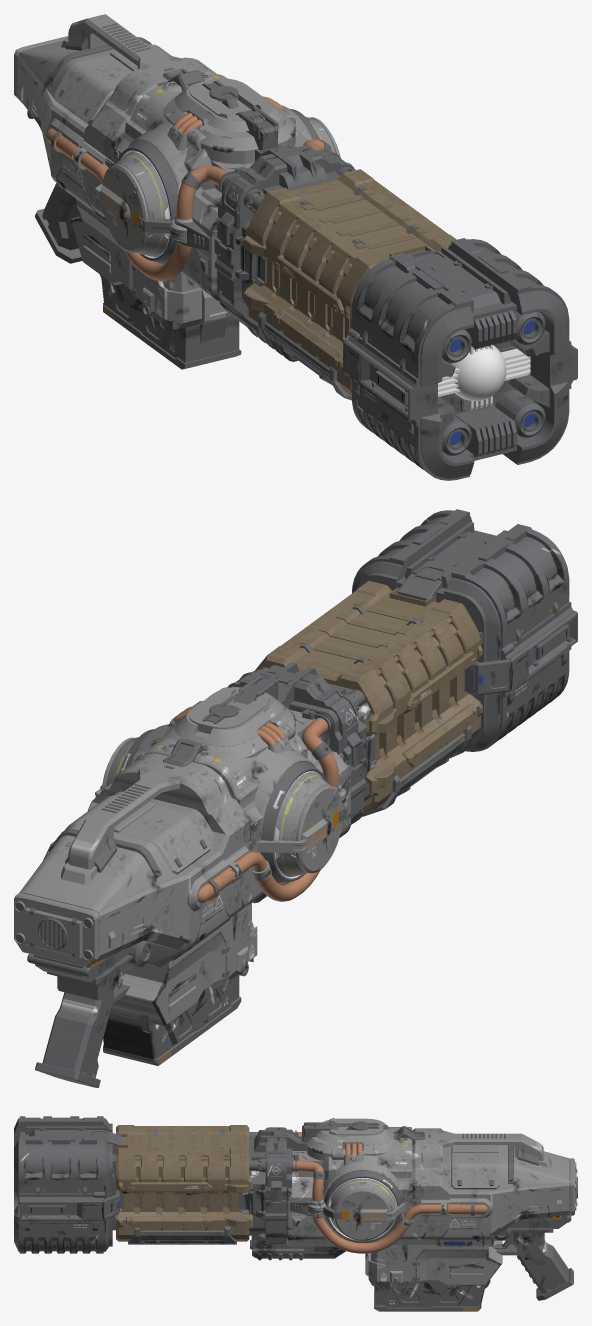
Rendered from plasma-gun.glb.
3 renders of one model, top to bottom at view 1: azimuth 30°, elevation 25°; view 2: azimuth 150°, elevation 25°; view 3: azimuth 270°, elevation 25°, orthographic. The views are drawn at different scales.
Visible parts, largest first — view 1: Cube.005; view 2: Cube.005; view 3: Cube.005.
Boxes of the visible parts, box(x1,y1,x2,y2) form: Cube.005: box(14, 14, 577, 480); Cube.005: box(14, 509, 577, 1087); Cube.005: box(14, 1116, 577, 1311).
Size of the model in its own units: 7.65 by 9.96 by 28.54.
2 materials, 1 textured.
